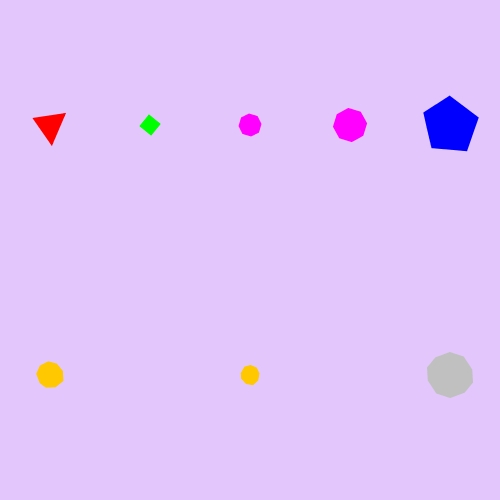decagon: (422, 350, 478, 401)
nonagon: (32, 358, 68, 392), (236, 361, 265, 389)
octagon: (329, 104, 371, 146), (234, 109, 266, 141)
pentagon: (419, 94, 481, 156)
quadrilateral: (135, 110, 165, 140)
triangle: (31, 105, 69, 145)
